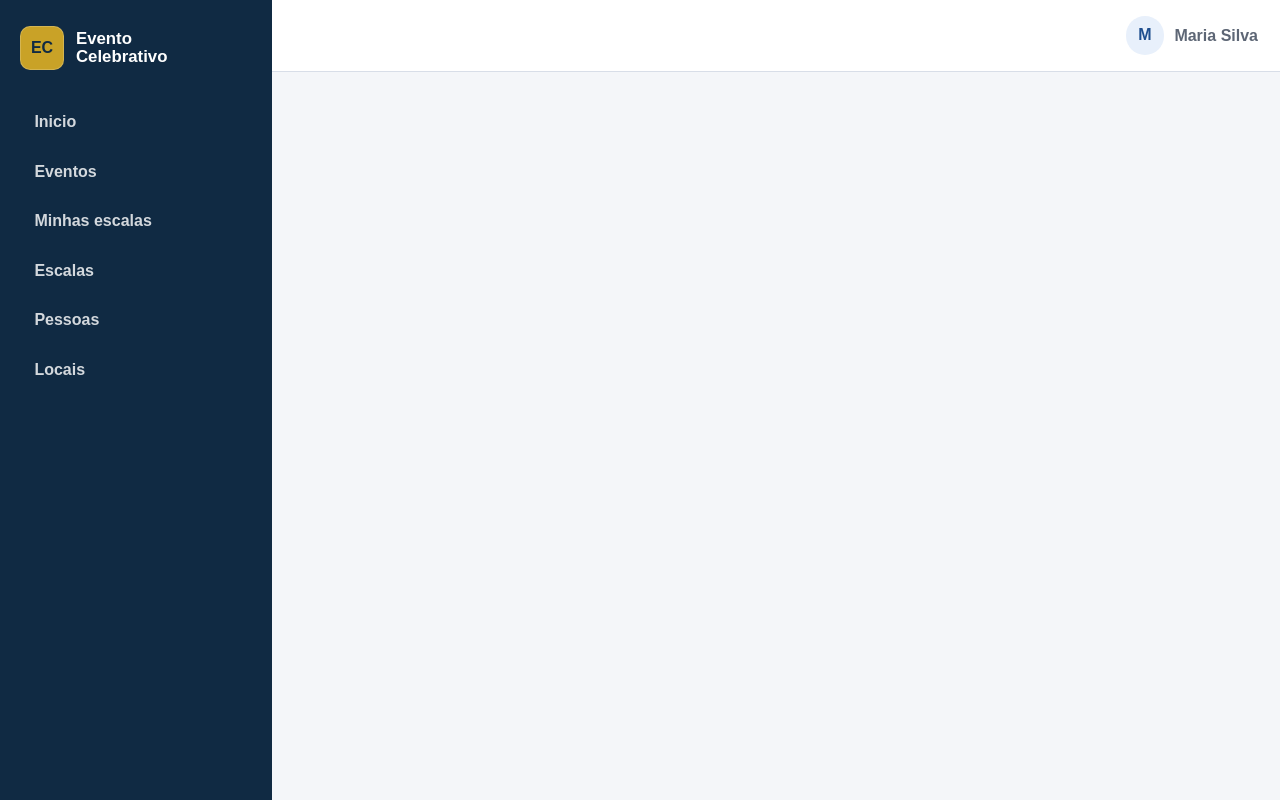
Test: AuthenticatedLayoutComponent › should open and close the user menu
Step 1. Click the button with class "user-menu__trigger" → x=1192, y=36, box [1120,14,1264,58]
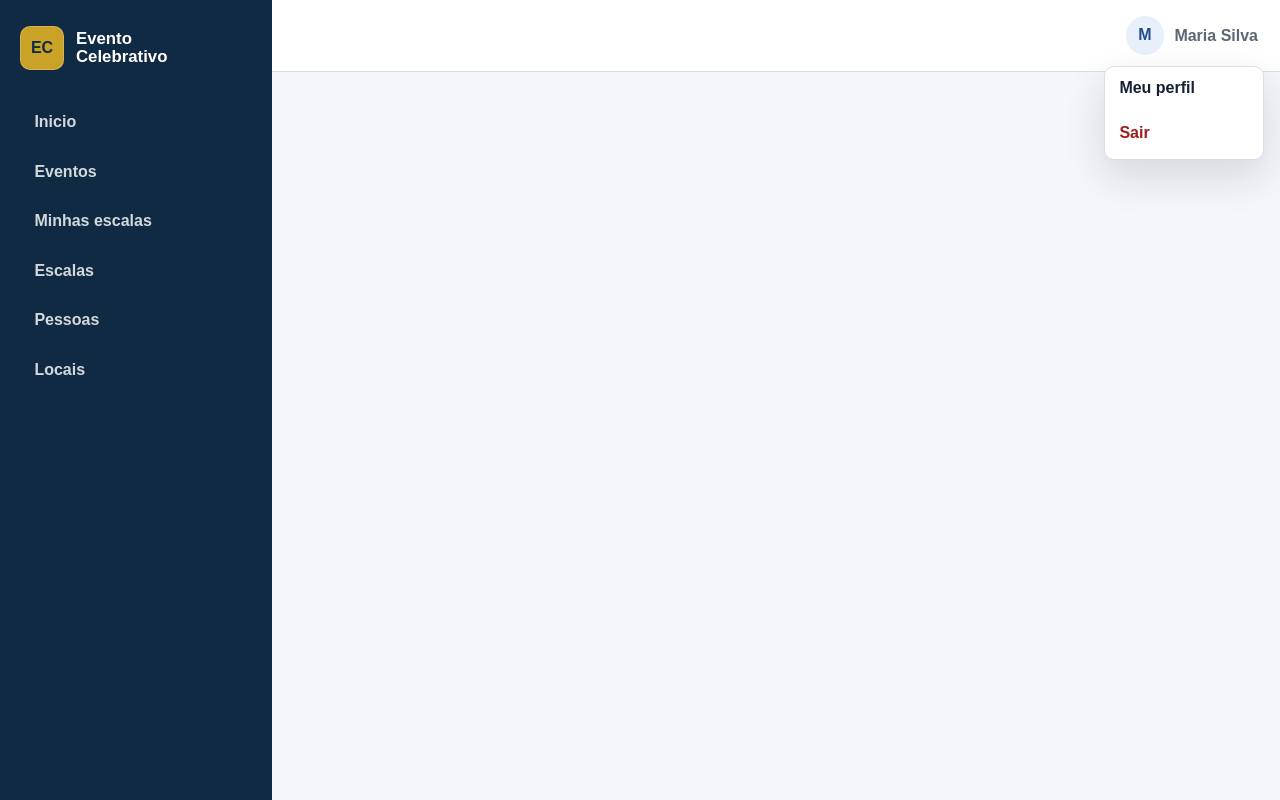
Now the menu with class "user-menu__panel" is shown, box [1104,66,1264,160]
Step 2. Click the button with class "user-menu__trigger" → x=1192, y=36, box [1120,14,1264,58]
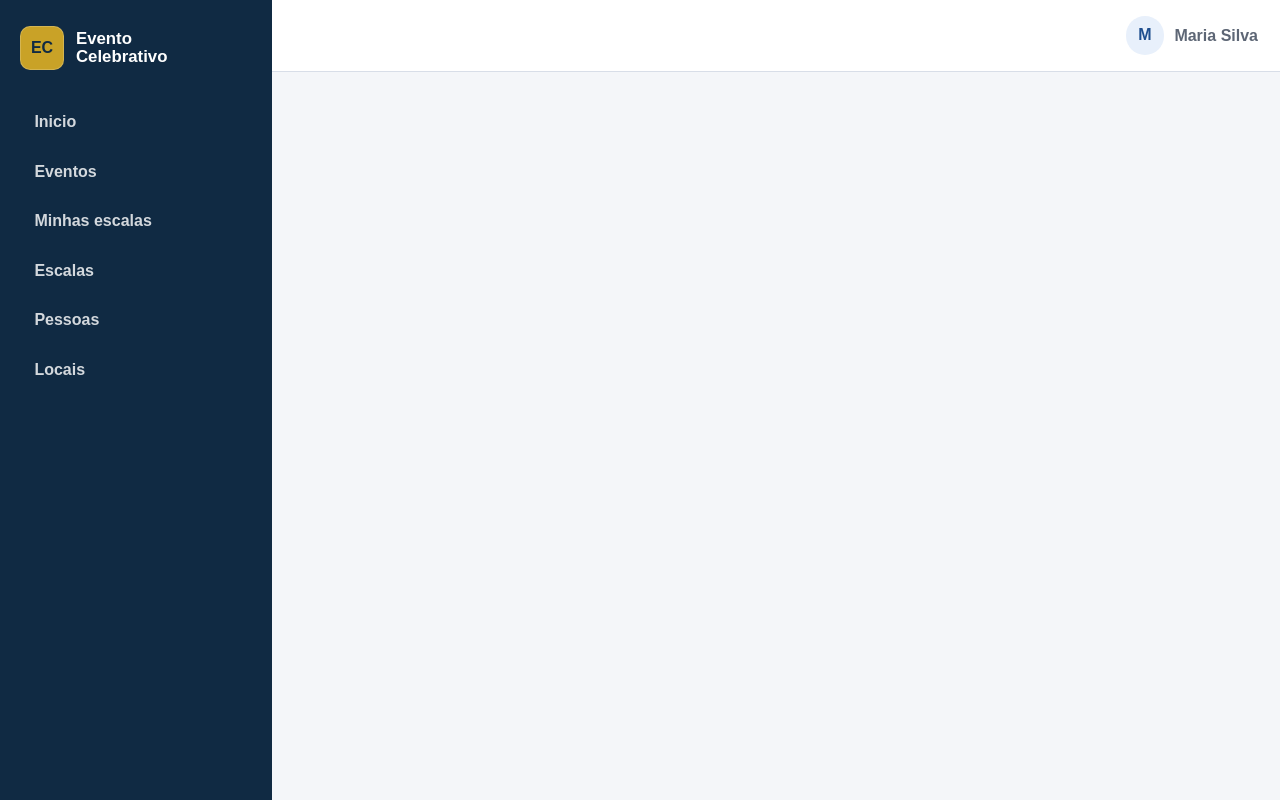
Now the menu with class "user-menu__panel" is gone
